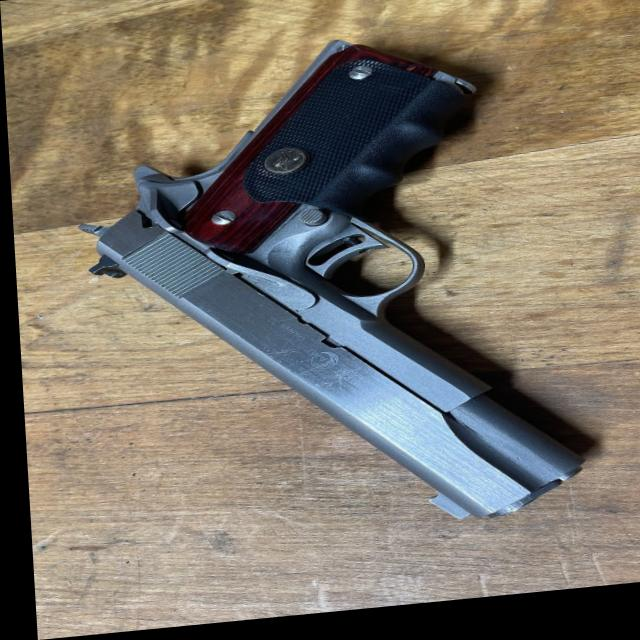handgun: (73, 28, 580, 558)
